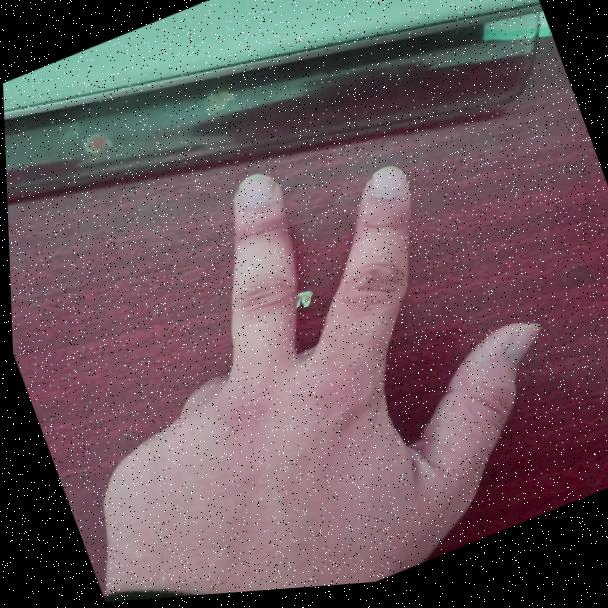three: (4, 87, 596, 608)
